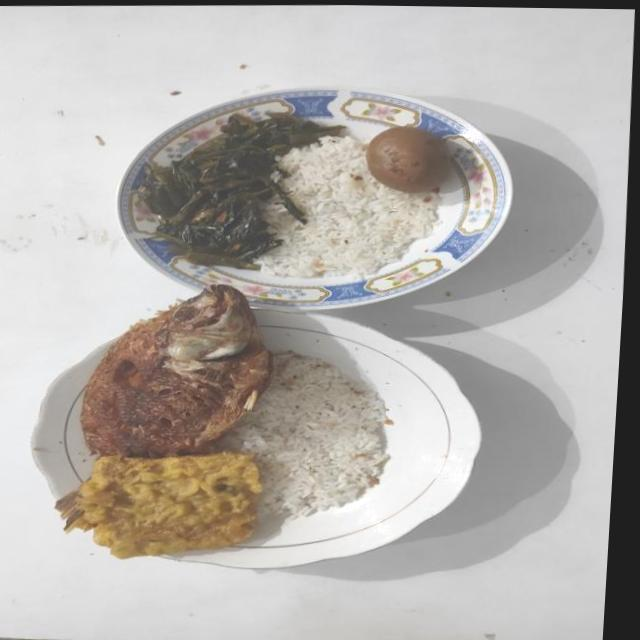ikan_mujair: (80, 285, 272, 458)
nasi_putih: (218, 350, 390, 522), (259, 136, 442, 278)
tumis_kangkung: (140, 113, 342, 270)
